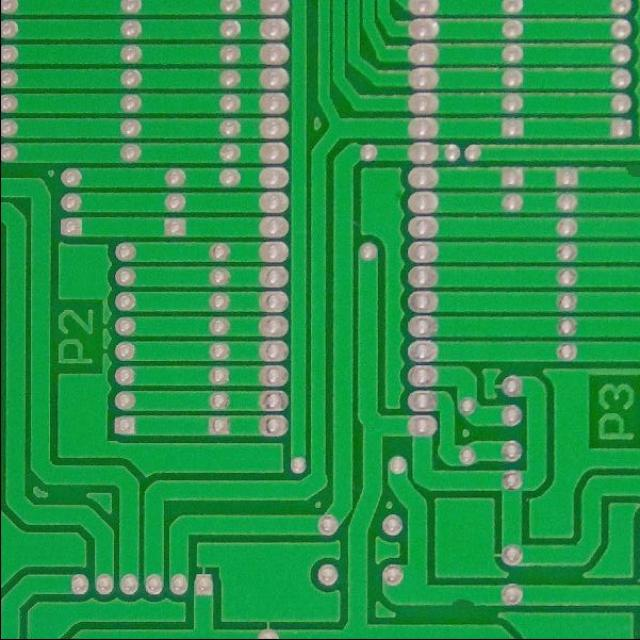mouse_bite: (448, 592, 478, 613), (619, 159, 638, 181)
